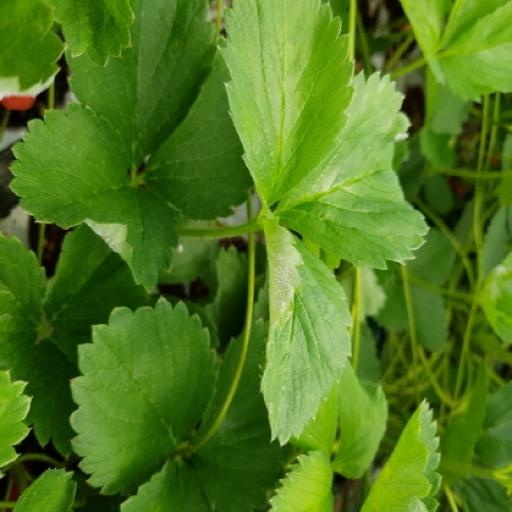Powdery Mildew Leaf: (158, 63, 253, 291)
